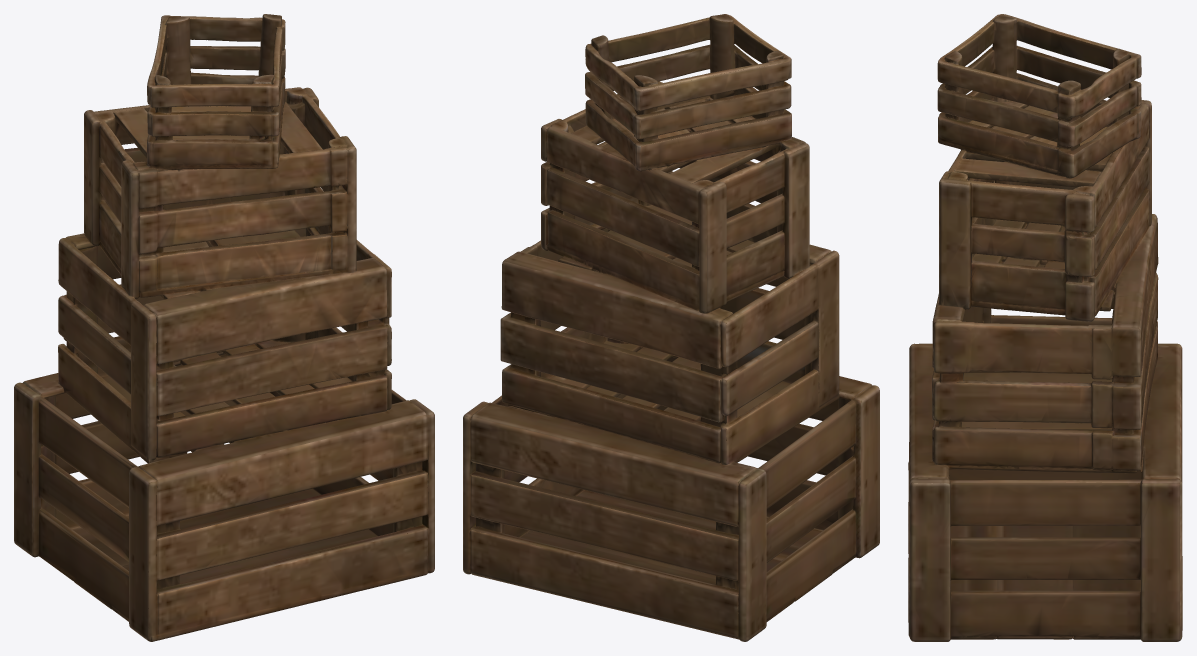
Rendered from stacked-crates.glb.
The picture shows the model from 3 angles, left to right: view 1: azimuth 30°, elevation 25°; view 2: azimuth 150°, elevation 25°; view 3: azimuth 270°, elevation 25°; orthographic projection.
Visible parts, largest first — view 1: mesh_node; view 2: mesh_node; view 3: mesh_node.
Boxes of the visible parts, x1,y1,x2,y2 form: mesh_node: (14, 14, 434, 641); mesh_node: (463, 14, 879, 641); mesh_node: (908, 14, 1182, 641).
Size of the model in its own units: 1.12 by 1.92 by 0.9188.
1 material, 1 textured.
